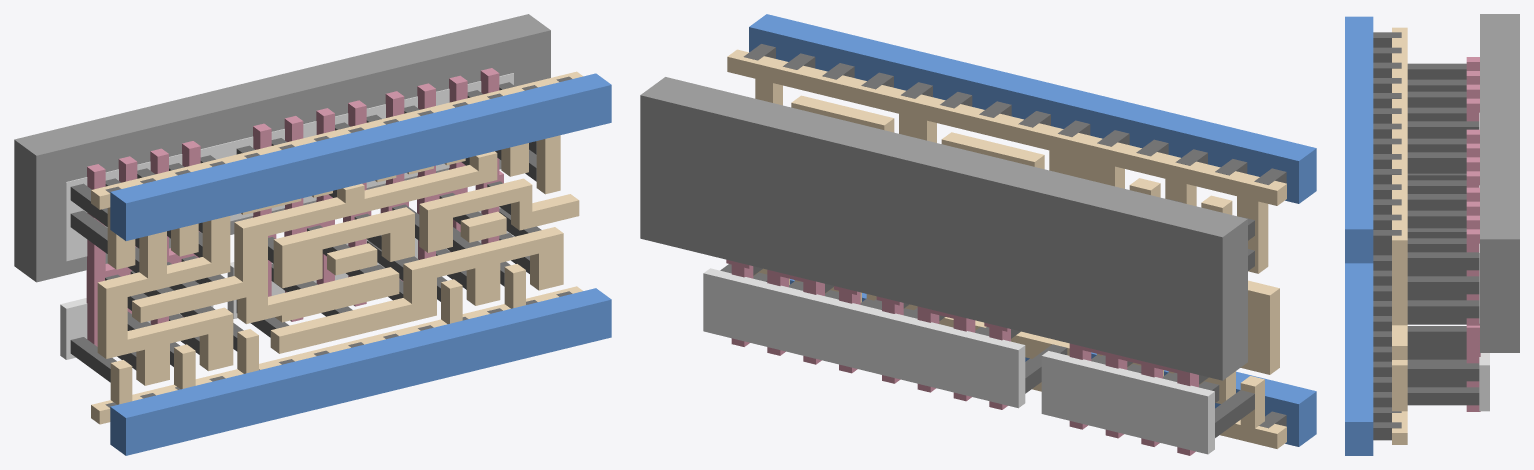
The model's file is sky130_fd_sc_hd__o22a_4.gds.gltf.
3 views of the same model, side by side, from view 1: azimuth 30°, elevation 25°; view 2: azimuth 150°, elevation 25°; view 3: azimuth 270°, elevation 25° (orthographic). The views are drawn at different scales.
Parts seen in each view (by area): view 1: sky130_fd_sc_hd__o22a_4_li1, sky130_fd_sc_hd__o22a_4_met1, sky130_fd_sc_hd__o22a_4_nwell, sky130_fd_sc_hd__o22a_4_licon, sky130_fd_sc_hd__o22a_4_poly, sky130_fd_sc_hd__o22a_4_diff, sky130_fd_sc_hd__o22a_4_mcon; view 2: sky130_fd_sc_hd__o22a_4_nwell, sky130_fd_sc_hd__o22a_4_diff, sky130_fd_sc_hd__o22a_4_li1, sky130_fd_sc_hd__o22a_4_met1, sky130_fd_sc_hd__o22a_4_poly, sky130_fd_sc_hd__o22a_4_mcon, sky130_fd_sc_hd__o22a_4_licon; view 3: sky130_fd_sc_hd__o22a_4_licon, sky130_fd_sc_hd__o22a_4_nwell, sky130_fd_sc_hd__o22a_4_met1, sky130_fd_sc_hd__o22a_4_mcon, sky130_fd_sc_hd__o22a_4_li1, sky130_fd_sc_hd__o22a_4_poly, sky130_fd_sc_hd__o22a_4_diff.
Boxes of the visible parts, x1,y1,x2,y2 form: sky130_fd_sc_hd__o22a_4_li1: [91, 71, 583, 424]; sky130_fd_sc_hd__o22a_4_met1: [110, 73, 611, 455]; sky130_fd_sc_hd__o22a_4_nwell: [14, 14, 550, 282]; sky130_fd_sc_hd__o22a_4_licon: [70, 82, 541, 382]; sky130_fd_sc_hd__o22a_4_poly: [86, 68, 503, 346]; sky130_fd_sc_hd__o22a_4_diff: [60, 73, 513, 359]; sky130_fd_sc_hd__o22a_4_mcon: [105, 76, 572, 407]; sky130_fd_sc_hd__o22a_4_nwell: [640, 77, 1247, 380]; sky130_fd_sc_hd__o22a_4_diff: [703, 268, 1214, 454]; sky130_fd_sc_hd__o22a_4_li1: [727, 49, 1286, 448]; sky130_fd_sc_hd__o22a_4_met1: [749, 14, 1316, 446]; sky130_fd_sc_hd__o22a_4_poly: [726, 259, 1198, 455]; sky130_fd_sc_hd__o22a_4_mcon: [743, 44, 1286, 428]; sky130_fd_sc_hd__o22a_4_licon: [720, 199, 1254, 437]; sky130_fd_sc_hd__o22a_4_licon: [1407, 63, 1479, 405]; sky130_fd_sc_hd__o22a_4_nwell: [1480, 14, 1519, 352]; sky130_fd_sc_hd__o22a_4_met1: [1345, 16, 1373, 455]; sky130_fd_sc_hd__o22a_4_mcon: [1373, 32, 1401, 440]; sky130_fd_sc_hd__o22a_4_li1: [1392, 27, 1407, 444]; sky130_fd_sc_hd__o22a_4_poly: [1466, 57, 1480, 411]; sky130_fd_sc_hd__o22a_4_diff: [1479, 112, 1489, 411].
Bounding box in the file's own units: 6.82 × 3.2 × 2.24.
